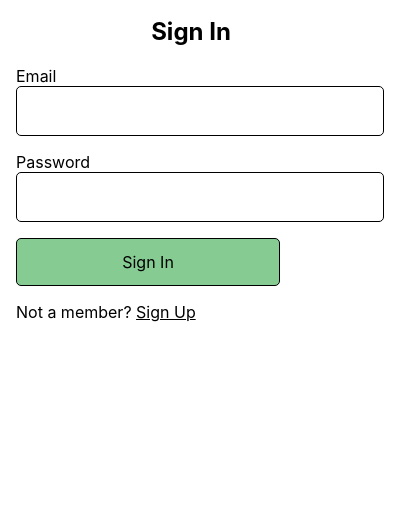
Test: <Login /> view › changes to sign up UI after clicking on sign in link
Click Sign Up link to toggle UI
Click the button "Sign Up": (166, 312) [136,302,196,322]
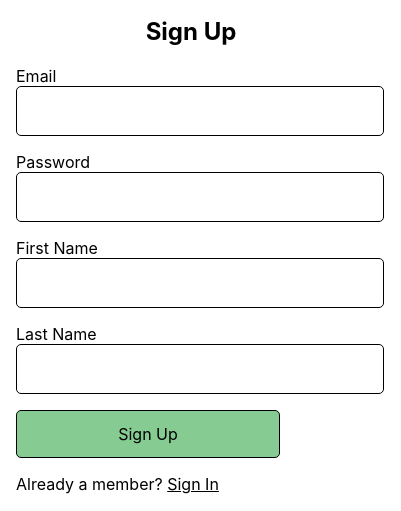
Expected: the heading "Sign Up" is shown, [146,17,236,46]
